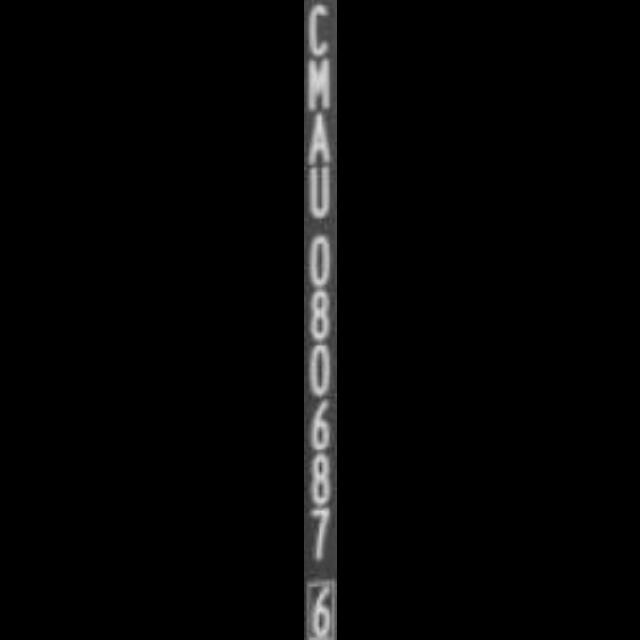0: (304, 232, 336, 292), (304, 340, 336, 394)
6: (304, 576, 336, 640), (304, 395, 336, 453)
7: (304, 504, 336, 568)
8: (304, 288, 336, 344), (304, 453, 336, 507)
a: (304, 110, 336, 167)
c: (304, 0, 336, 56)
m: (304, 58, 336, 112)
u: (304, 166, 336, 222)
